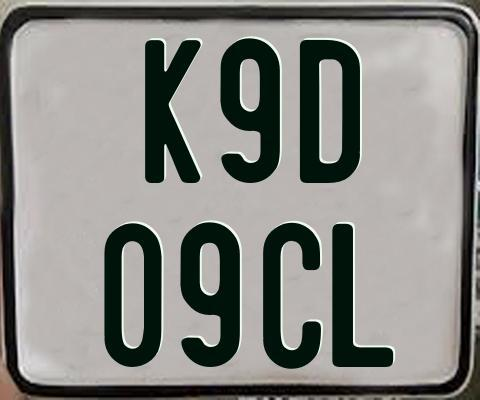0: (103, 221, 166, 365)
9: (178, 220, 244, 365), (219, 36, 284, 182)
C: (261, 221, 322, 369)
D: (300, 39, 363, 188)
K: (143, 37, 201, 185)
L: (332, 223, 396, 372)
